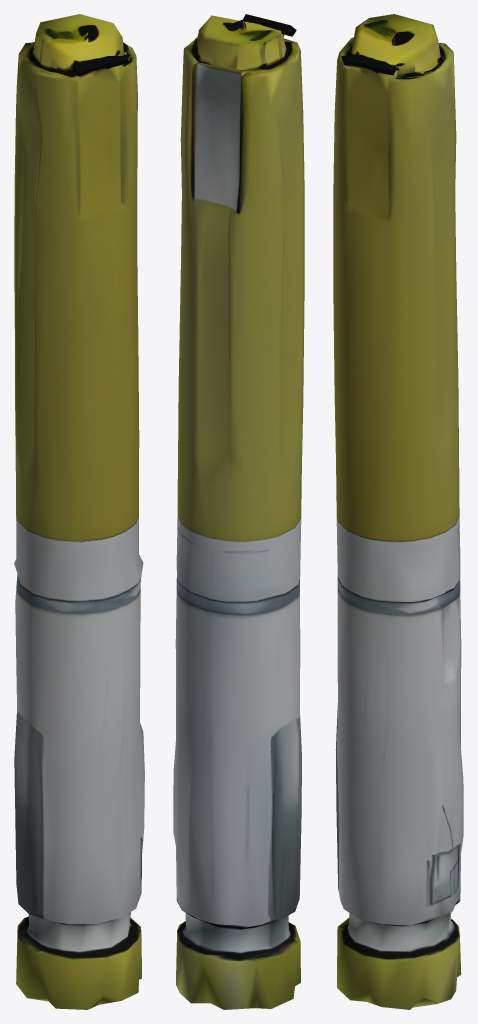
Rendered from Propital.fbx.
3 renders of one model, left to right at view 1: azimuth 30°, elevation 25°; view 2: azimuth 150°, elevation 25°; view 3: azimuth 330°, elevation 25°, orthographic.
Visible parts, largest first — view 1: tripo_node_9d76ee6d; view 2: tripo_node_9d76ee6d; view 3: tripo_node_9d76ee6d.
Part boxes in pixels (x1,y1,x2,y2): tripo_node_9d76ee6d: (14,14,144,1009); tripo_node_9d76ee6d: (173,14,304,1009); tripo_node_9d76ee6d: (333,14,463,1009).
Bounding box in the file's own units: 0.1226 × 1 × 0.1203.
